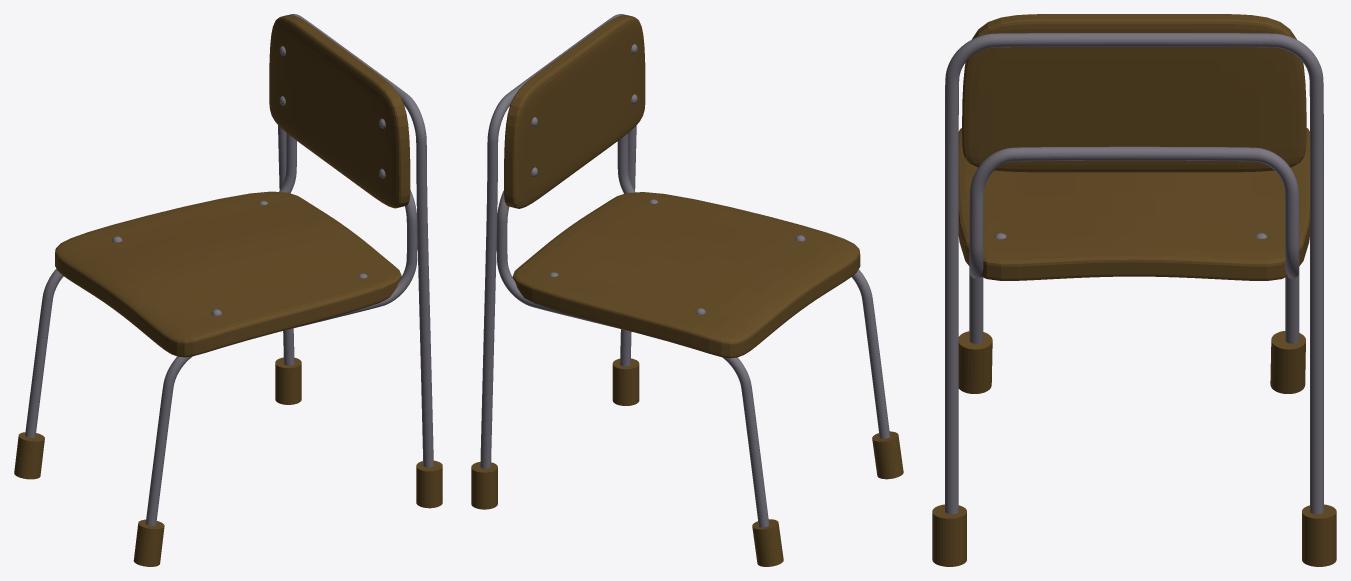
The model's file is Chair.fbx.
The picture shows the model from 3 angles, left to right: view 1: azimuth 30°, elevation 25°; view 2: azimuth 150°, elevation 25°; view 3: azimuth 270°, elevation 25°; orthographic projection. The views are drawn at different scales.
Visible parts, largest first — view 1: Cube.009; view 2: Cube.009; view 3: Cube.009.
Part boxes in pixels (x1=…): Cube.009: x1=14, y1=14, x2=442, y2=566; Cube.009: x1=471, y1=14, x2=903, y2=566; Cube.009: x1=932, y1=14, x2=1336, y2=566.
Bounding box in the file's own units: 1.68 × 2.21 × 1.52.
